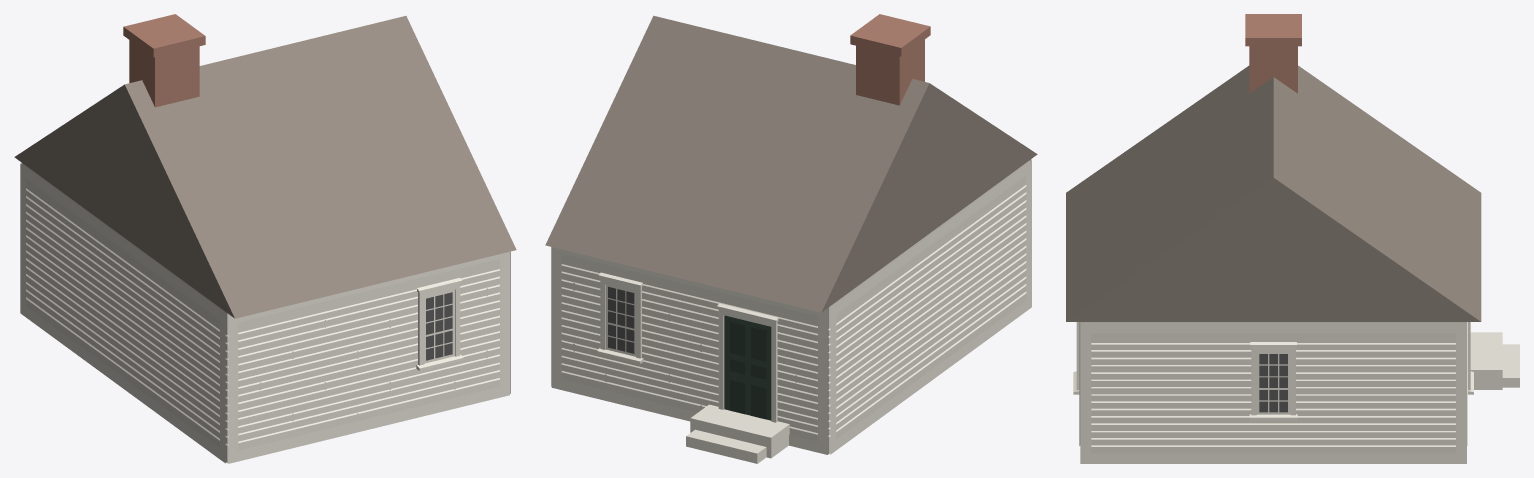
File: recon_1835_blk_indiana_north_cass_d3_01__inferred_1835.glb
The picture shows the model from 3 angles, left to right: view 1: azimuth 30°, elevation 25°; view 2: azimuth 150°, elevation 25°; view 3: azimuth 270°, elevation 25°; orthographic projection. The views are drawn at different scales.
Parts seen in each view (by area): view 1: recon_1835_blk_indiana_north_cass_d3_01__inferred_1835; view 2: recon_1835_blk_indiana_north_cass_d3_01__inferred_1835; view 3: recon_1835_blk_indiana_north_cass_d3_01__inferred_1835.
Boxes of the visible parts, x1=… form: recon_1835_blk_indiana_north_cass_d3_01__inferred_1835: x1=14, y1=14, x2=516, y2=463; recon_1835_blk_indiana_north_cass_d3_01__inferred_1835: x1=545, y1=14, x2=1037, y2=463; recon_1835_blk_indiana_north_cass_d3_01__inferred_1835: x1=1066, y1=14, x2=1519, y2=463.
Bounding box in the file's own units: 5.46 × 6.24 × 7.87.
